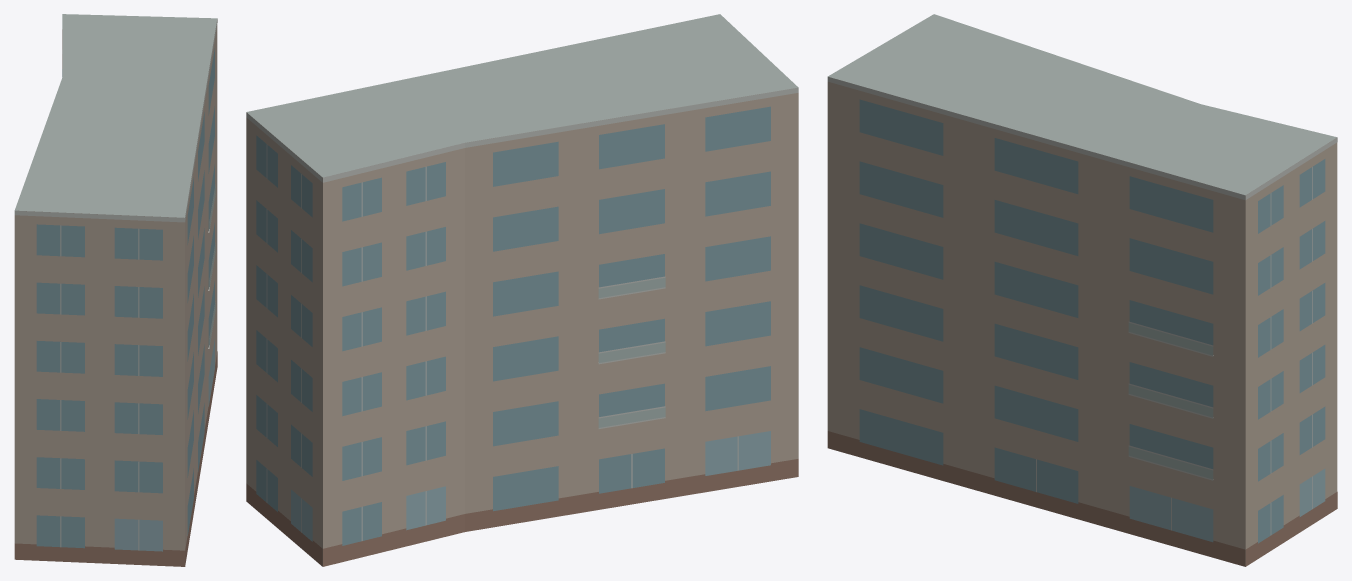
Rendered from survey-upis-33038275.glb.
3 views of the same model, side by side, from view 1: azimuth 30°, elevation 25°; view 2: azimuth 150°, elevation 25°; view 3: azimuth 270°, elevation 25° (orthographic). The views are drawn at different scales.
Visible parts, largest first — view 1: survey-upis-33038275.tmp; view 2: survey-upis-33038275.tmp; view 3: survey-upis-33038275.tmp.
Boxes of the visible parts, left/top/right/bottom form: survey-upis-33038275.tmp: left=14, top=14, right=217, bottom=566; survey-upis-33038275.tmp: left=246, top=14, right=798, bottom=566; survey-upis-33038275.tmp: left=827, top=14, right=1337, bottom=566.
Bounding box in the file's own units: 19.16 × 18.3 × 22.76.
